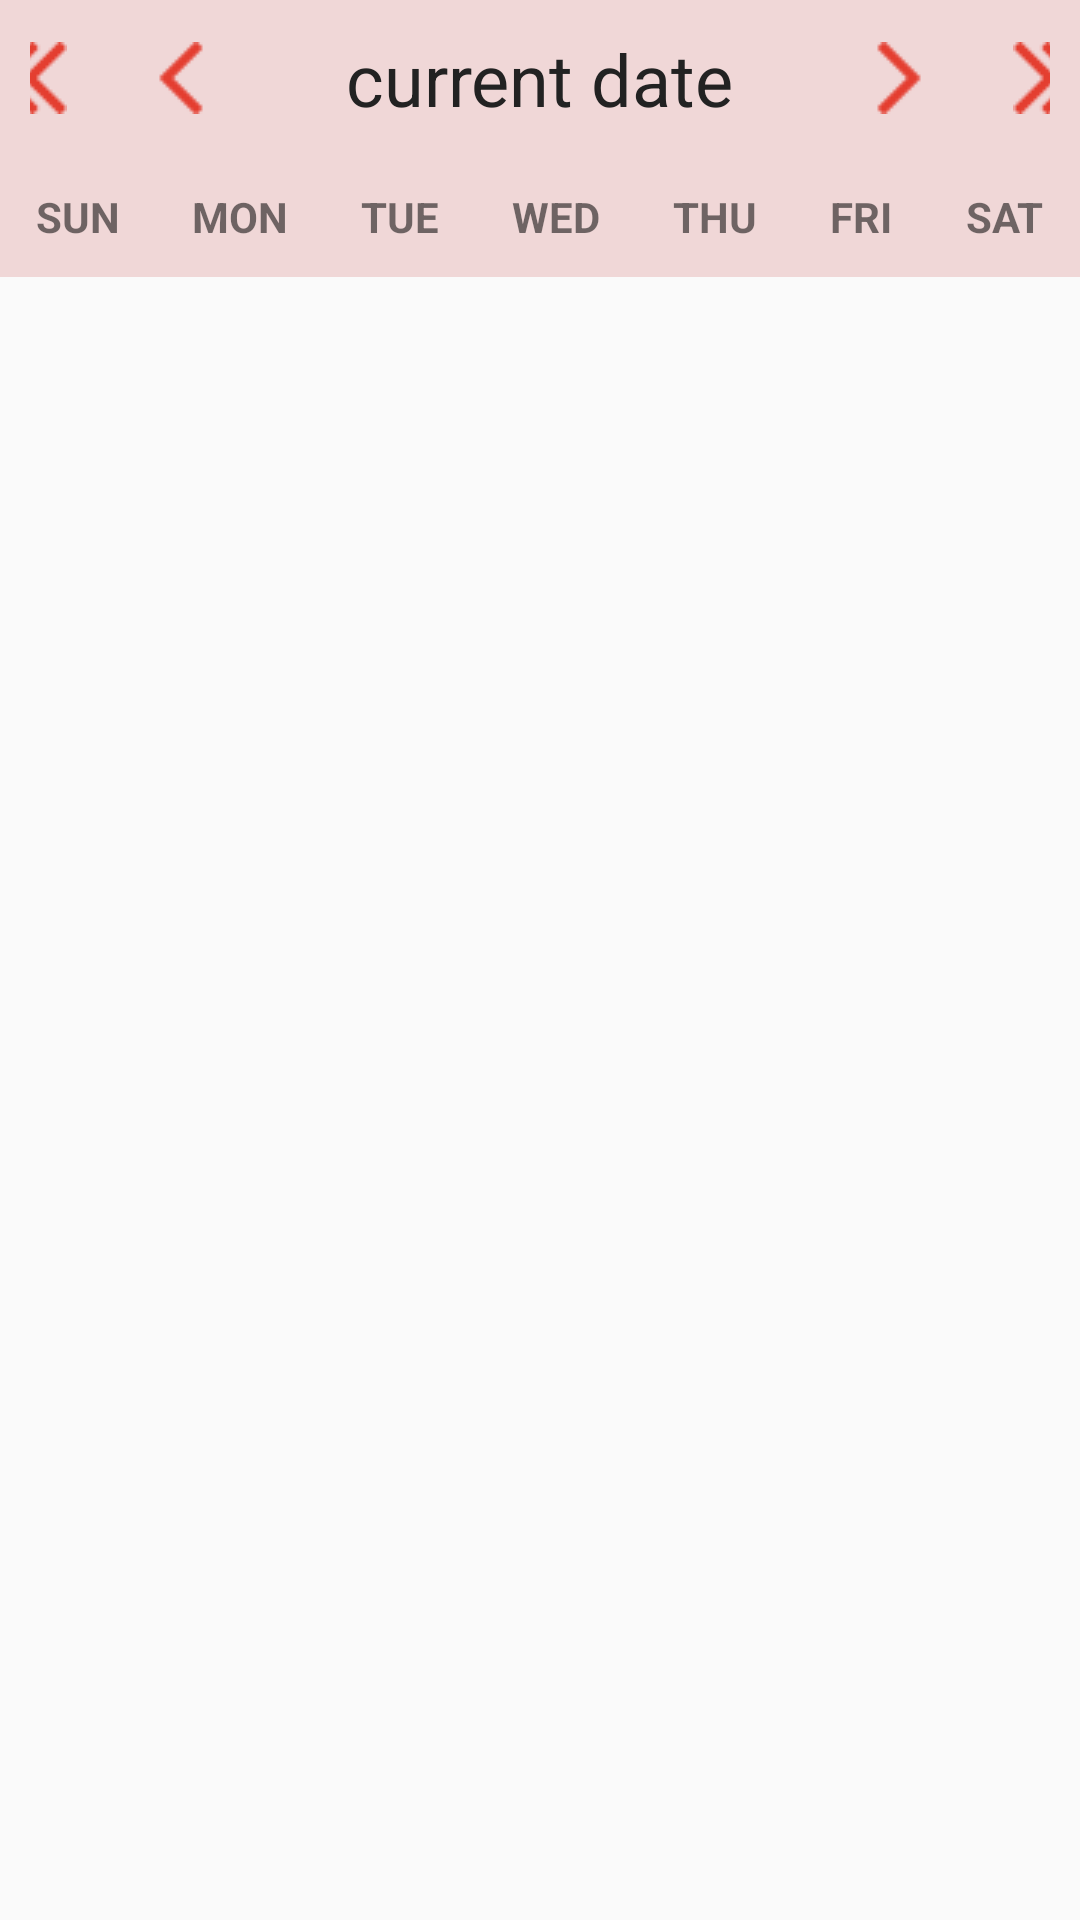

Named icons in this screenshot (1080 x 1920) and their centers, point (x, y):
arrows left: point (181, 78)
arrows right: point (899, 78)
